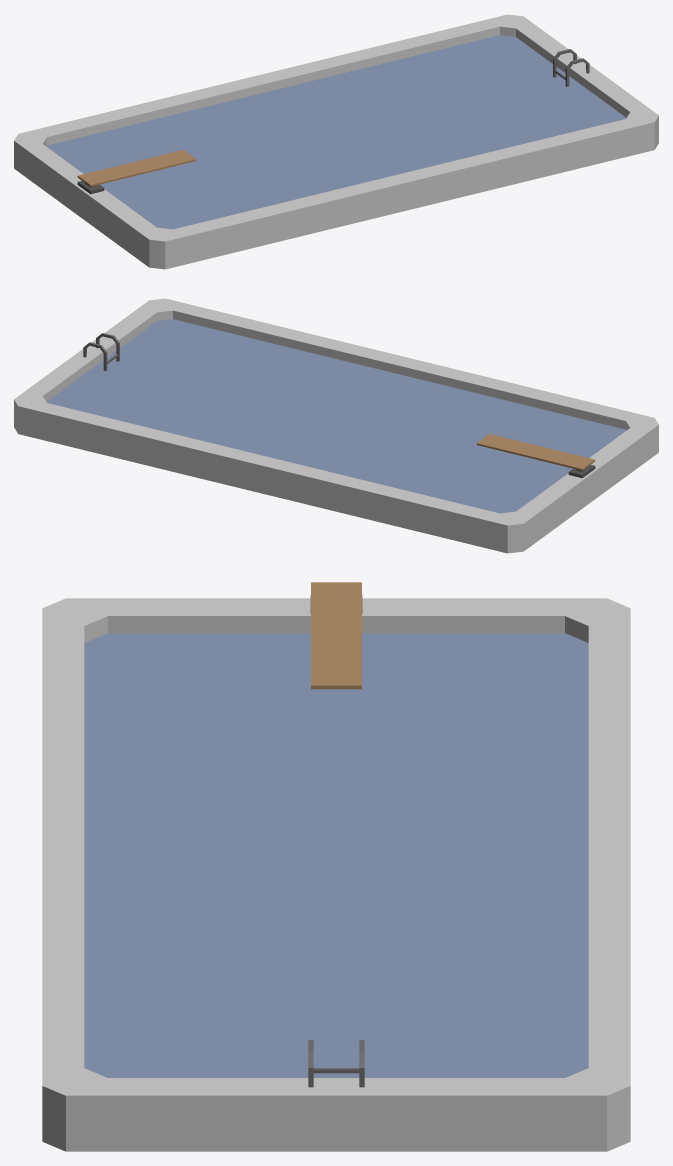
The model's file is Pool_02.fbx.
3 renders of one model, top to bottom at view 1: azimuth 30°, elevation 25°; view 2: azimuth 150°, elevation 25°; view 3: azimuth 270°, elevation 25°, orthographic. The views are drawn at different scales.
Visible parts, largest first — view 1: Pool_02; view 2: Pool_02; view 3: Pool_02.
Part boxes in pixels (x1,y1,x2,y2): Pool_02: (14, 14, 658, 269); Pool_02: (14, 298, 658, 553); Pool_02: (42, 582, 630, 1151).
Size of the model in its own units: 600 by 48.61 by 300.
